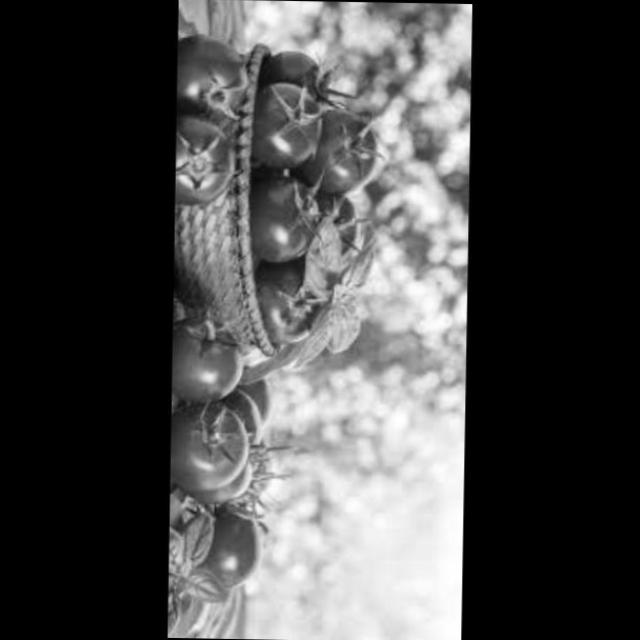ca chua: (248, 160, 332, 270), (170, 399, 254, 498), (253, 81, 331, 171), (178, 26, 252, 120), (174, 313, 248, 403), (175, 110, 238, 214), (260, 258, 333, 346), (192, 510, 264, 592), (318, 106, 386, 190), (269, 40, 336, 110), (182, 456, 258, 516), (224, 375, 280, 442), (321, 187, 373, 256)
